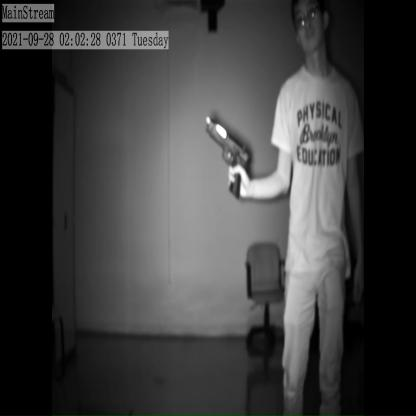weapon: (204, 105, 251, 201)
